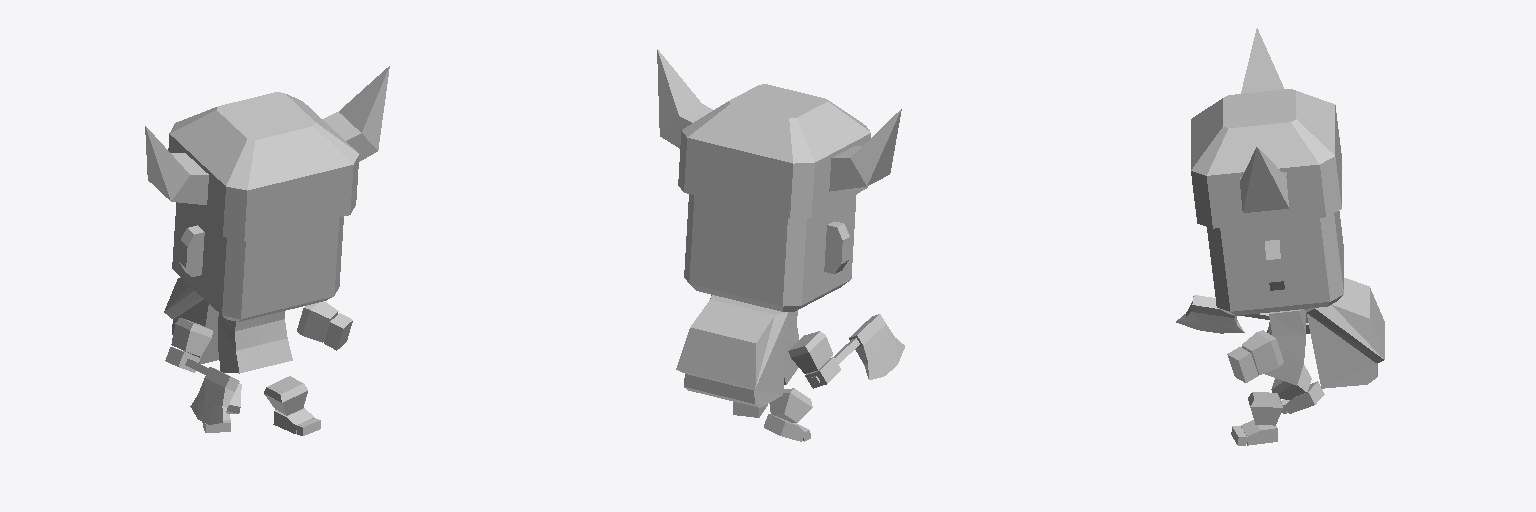
Rendered from mini_knight_000005.obj.
3 views of the same model, side by side, from view 1: azimuth 30°, elevation 25°; view 2: azimuth 150°, elevation 25°; view 3: azimuth 270°, elevation 25° (orthographic).
Parts seen in each view (by area): view 1: cap_Object01_Material__3, Mesh_objheadusOBJexport_Material, back_Object03_Material__3, axe_Object02_Material__3; view 2: cap_Object01_Material__3, Mesh_objheadusOBJexport_Material, back_Object03_Material__3, axe_Object02_Material__3; view 3: cap_Object01_Material__3, Mesh_objheadusOBJexport_Material, back_Object03_Material__3, axe_Object02_Material__3.
Boxes of the visible parts, x1=… form: cap_Object01_Material__3: x1=145, y1=66, x2=389, y2=240; Mesh_objheadusOBJexport_Material: x1=165, y1=202, x2=352, y2=435; back_Object03_Material__3: x1=164, y1=277, x2=218, y2=363; axe_Object02_Material__3: x1=185, y1=358, x2=239, y2=424; cap_Object01_Material__3: x1=657, y1=49, x2=901, y2=218; Mesh_objheadusOBJexport_Material: x1=684, y1=194, x2=856, y2=441; back_Object03_Material__3: x1=676, y1=295, x2=787, y2=407; axe_Object02_Material__3: x1=811, y1=314, x2=904, y2=384; cap_Object01_Material__3: x1=1191, y1=28, x2=1341, y2=228; Mesh_objheadusOBJexport_Material: x1=1207, y1=211, x2=1343, y2=445; back_Object03_Material__3: x1=1306, y1=278, x2=1384, y2=388; axe_Object02_Material__3: x1=1176, y1=295, x2=1269, y2=333.
Size of the model in its own units: 1.94 by 2.56 by 1.44.